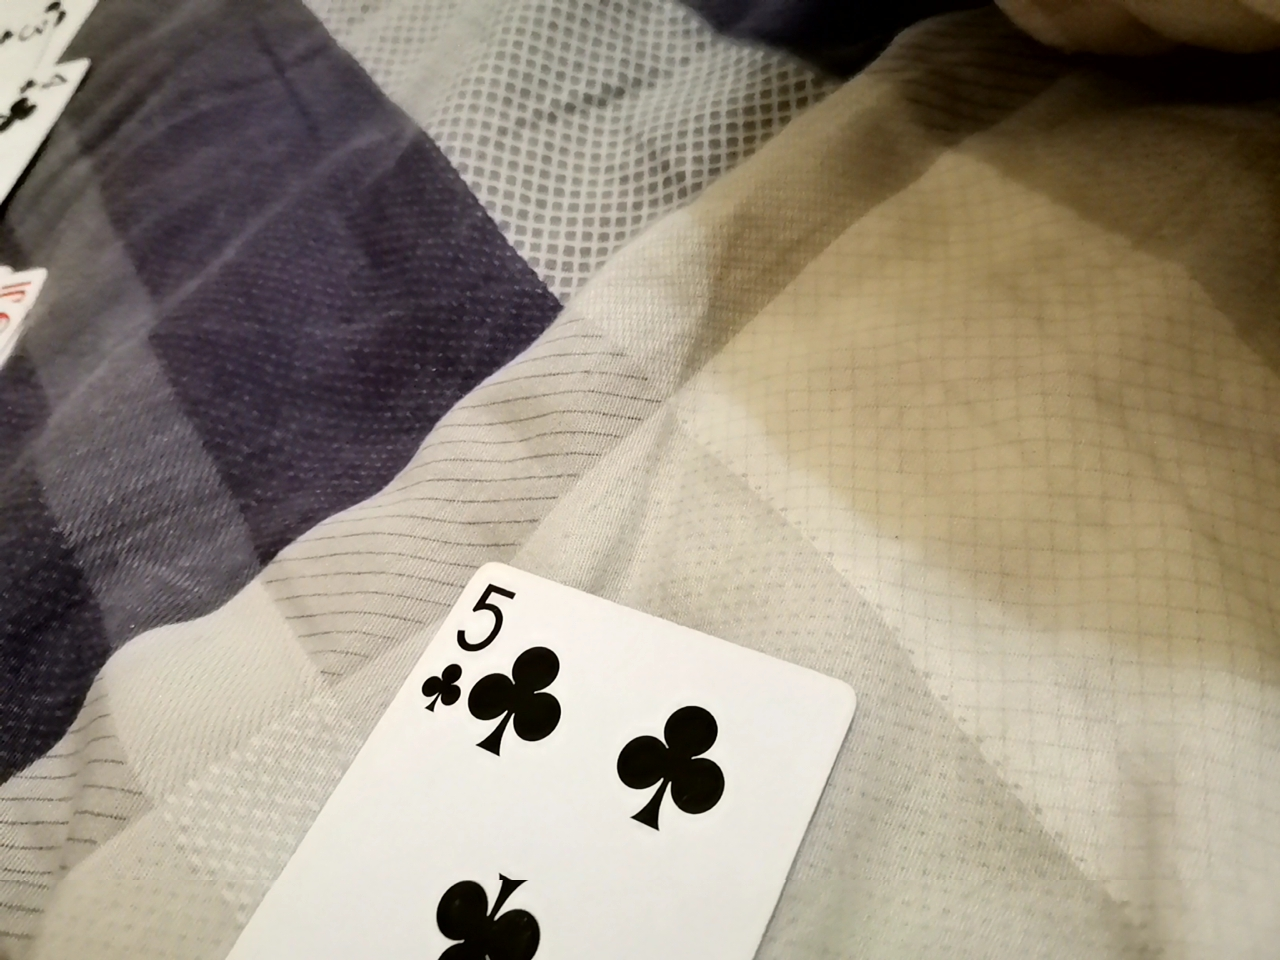mh 5: (71, 578, 871, 957)
